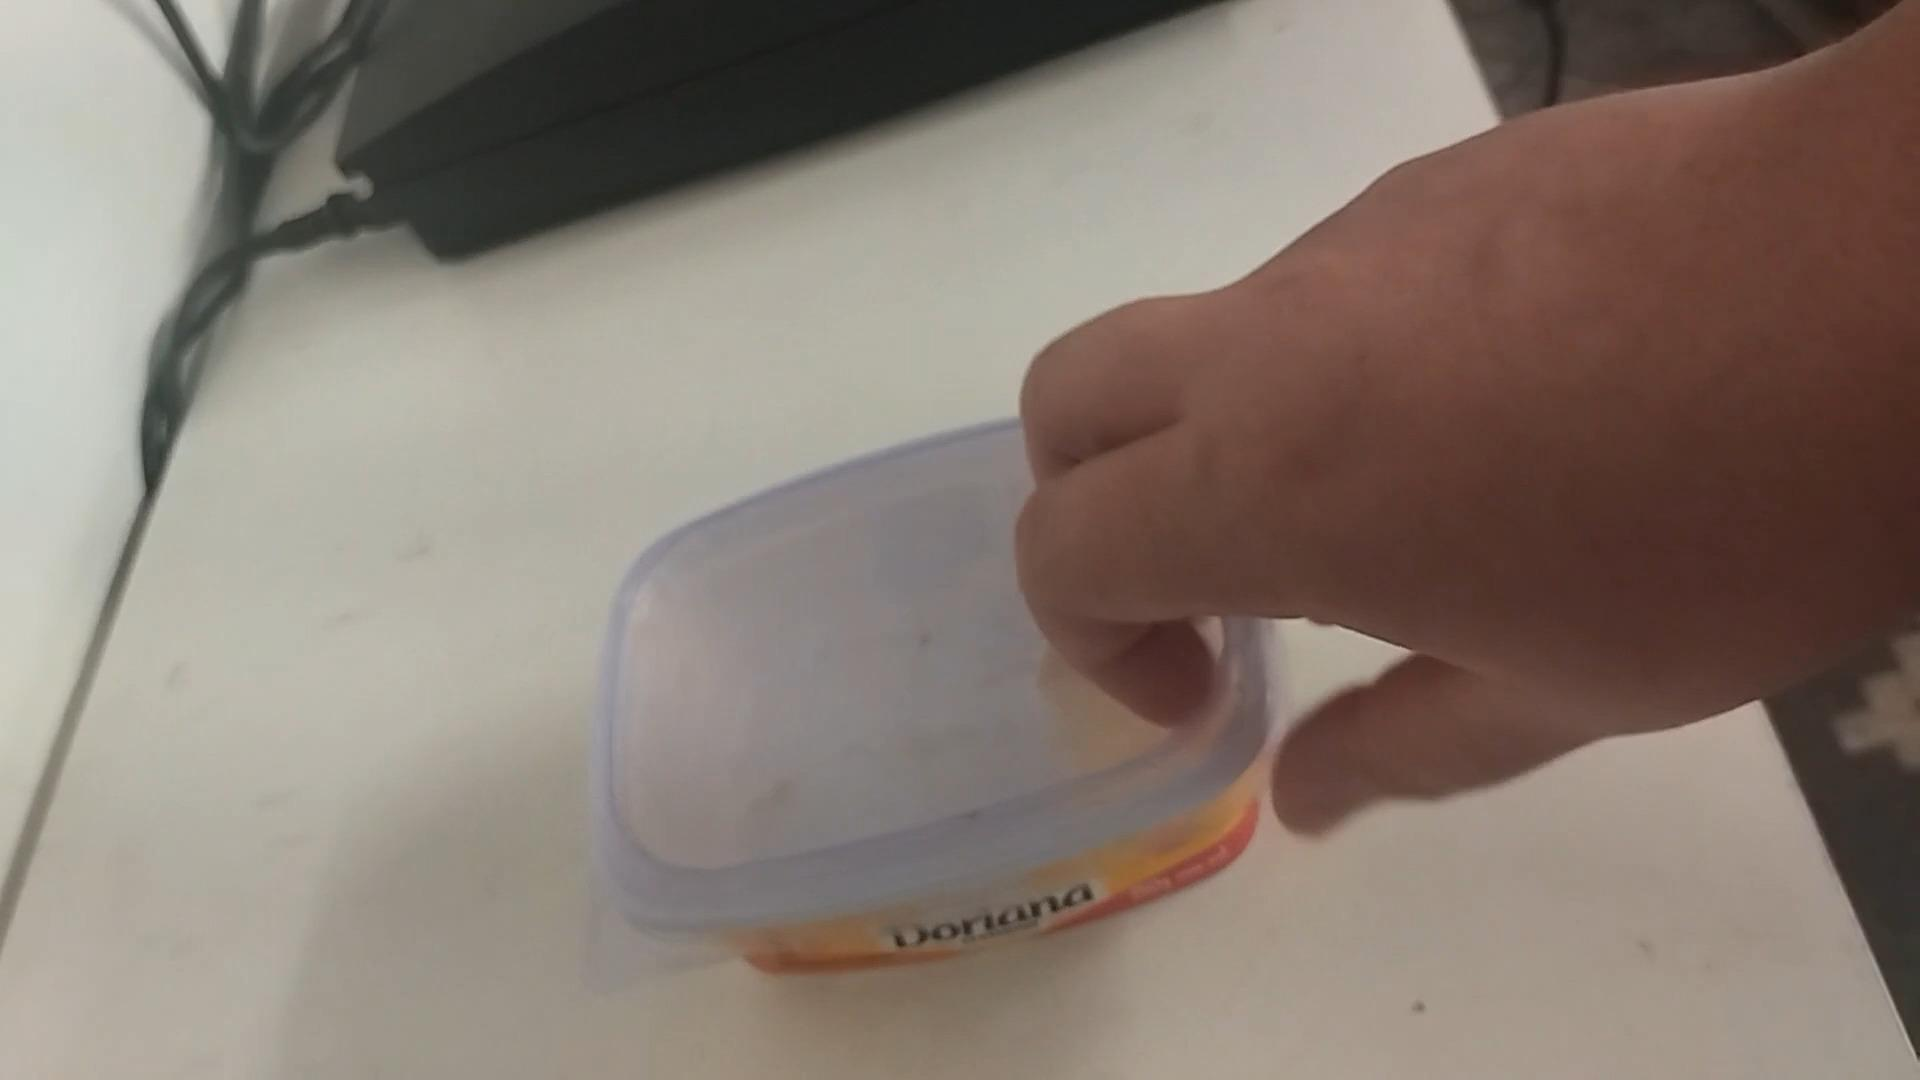butter: (582, 418, 1282, 977)
